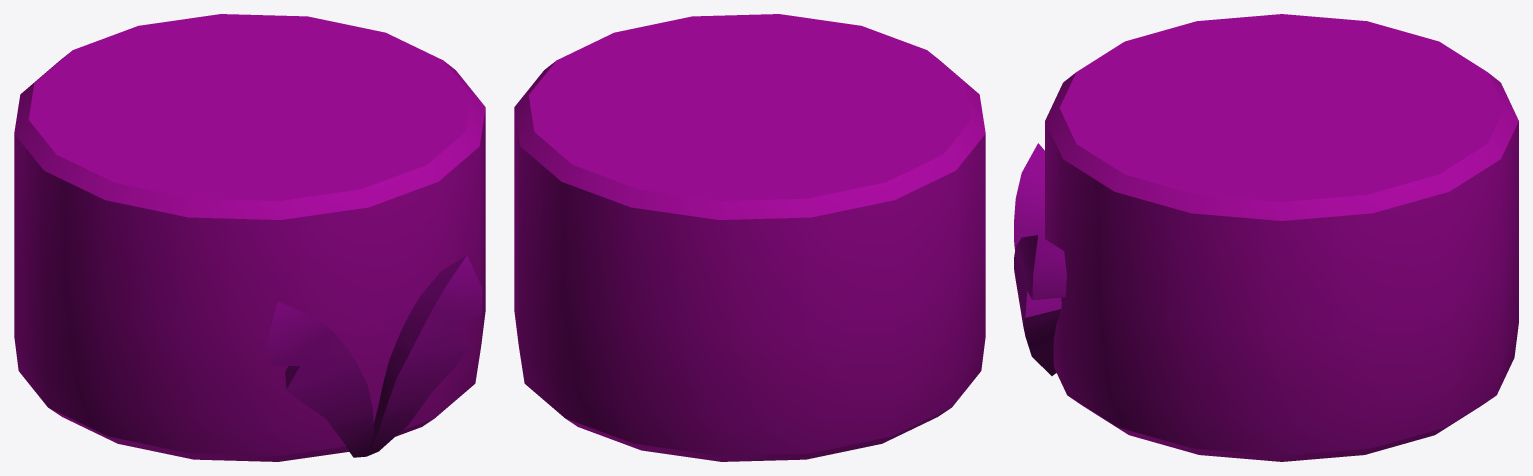
Rendered from Body_Dress_11.fbx.
3 renders of one model, left to right at view 1: azimuth 30°, elevation 25°; view 2: azimuth 150°, elevation 25°; view 3: azimuth 270°, elevation 25°, orthographic.
Parts seen in each view (by area): view 1: Body_Dress_11; view 2: Body_Dress_11; view 3: Body_Dress_11.
Boxes of the visible parts, x1,y1,x2,y2 form: Body_Dress_11: (14, 14, 485, 461); Body_Dress_11: (514, 14, 985, 461); Body_Dress_11: (1014, 14, 1518, 461).
Bounding box in the file's own units: 100 × 61.22 × 107.
